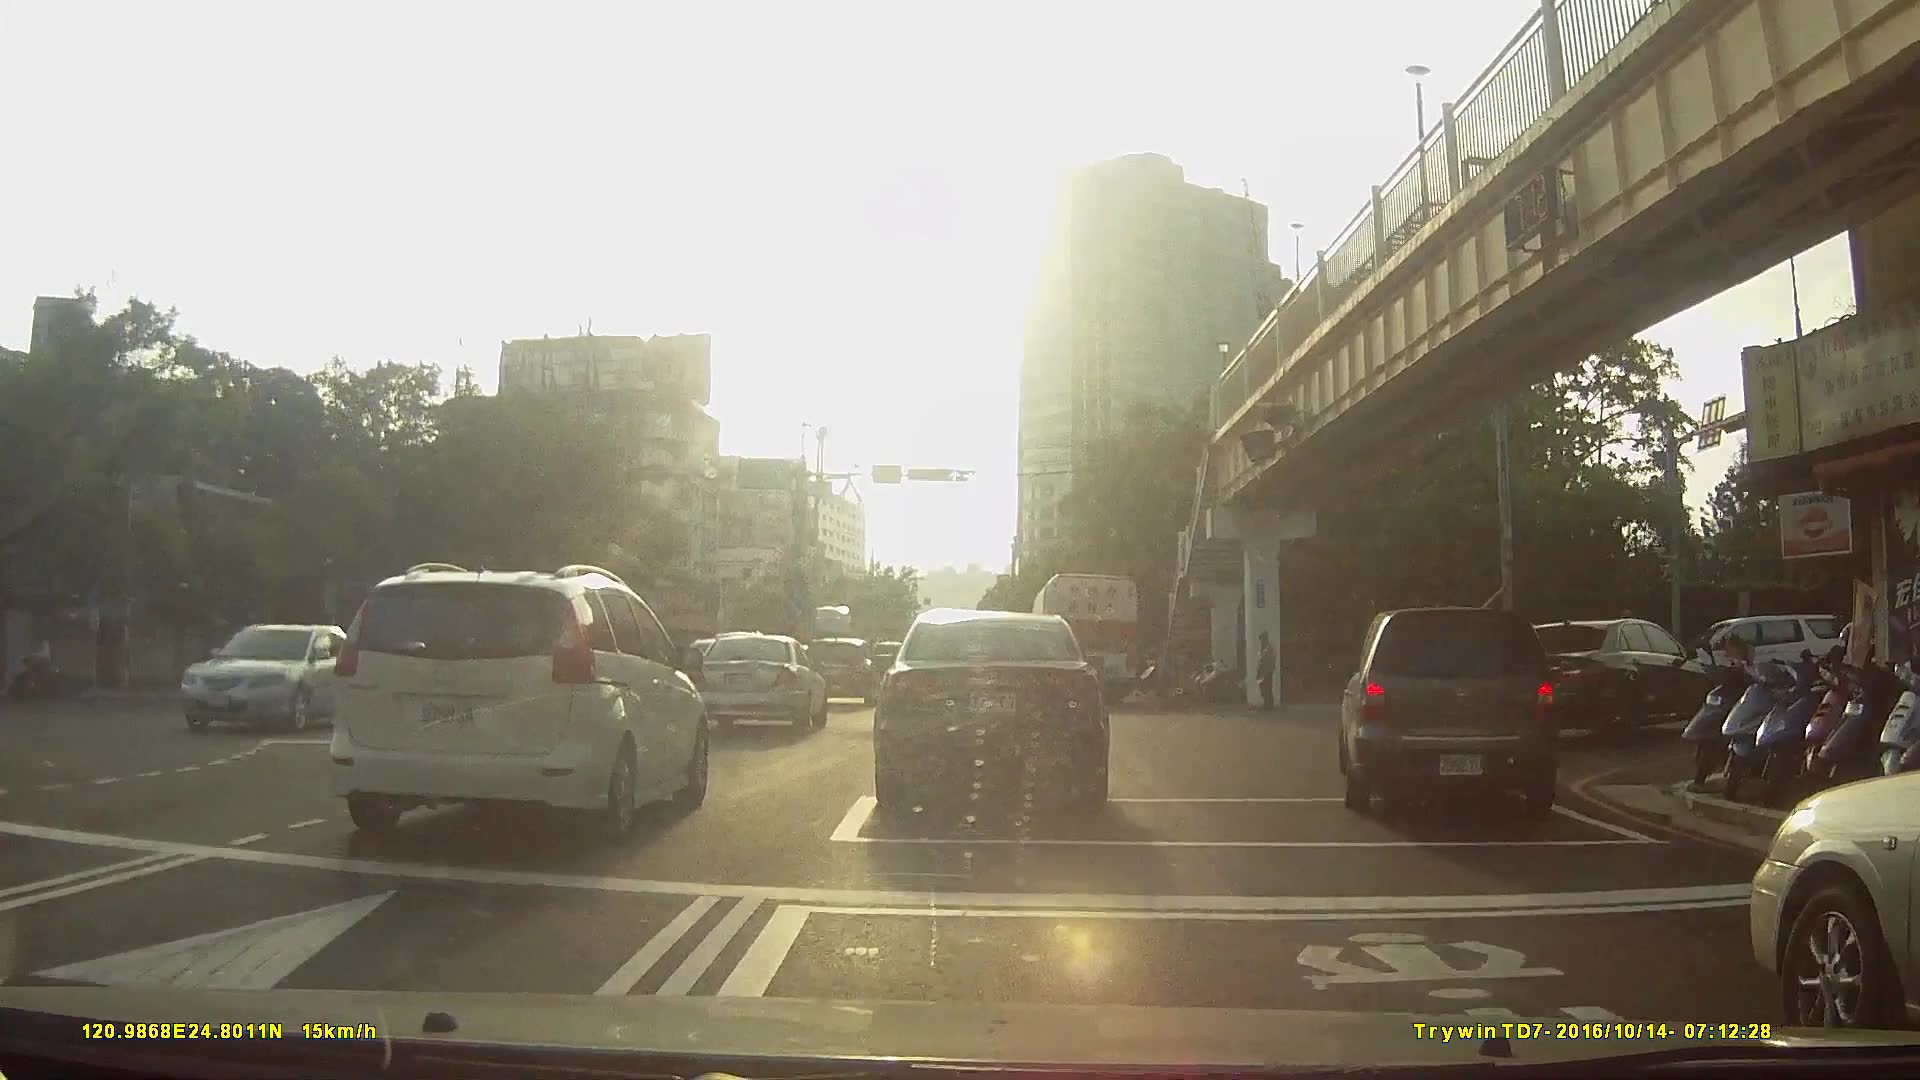pedestrian: (1252, 626, 1286, 712)
vehicle: (327, 556, 712, 843), (1324, 597, 1572, 818), (876, 597, 1111, 815), (1502, 613, 1761, 736), (166, 613, 392, 727), (1030, 564, 1142, 701), (694, 628, 830, 733), (806, 632, 882, 703)
